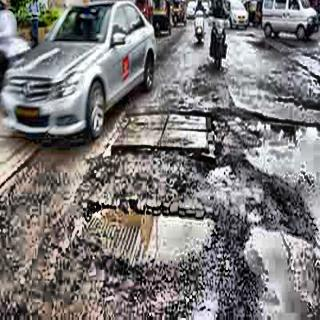pothole: (83, 197, 220, 277), (230, 110, 320, 230), (240, 228, 320, 315), (207, 166, 266, 230)
